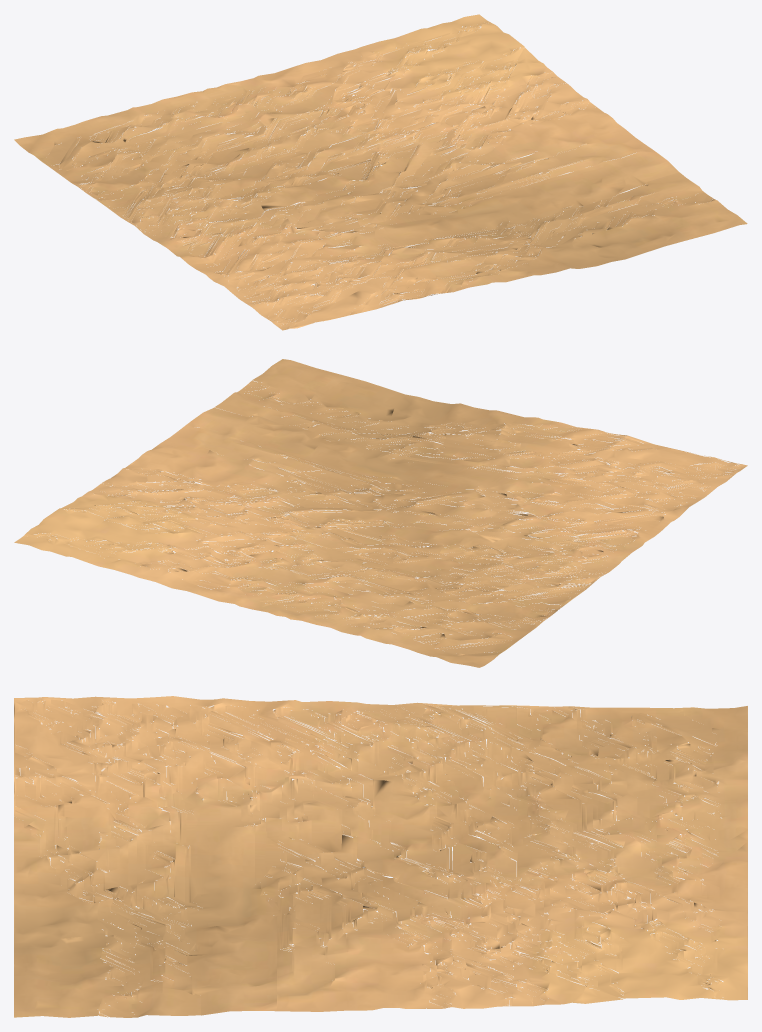
Rendered from sand.glb.
3 renders of one model, top to bottom at view 1: azimuth 30°, elevation 25°; view 2: azimuth 150°, elevation 25°; view 3: azimuth 270°, elevation 25°, orthographic. The views are drawn at different scales.
Visible parts, largest first — view 1: sand; view 2: sand; view 3: sand.
Part boxes in pixels (bbox=[...]): sand: bbox=[14, 14, 747, 330]; sand: bbox=[14, 359, 747, 667]; sand: bbox=[14, 696, 747, 1017].
Bounding box in the file's own units: 1 × 0.0449 × 1.
Materials: 1 (1 with a texture image).
